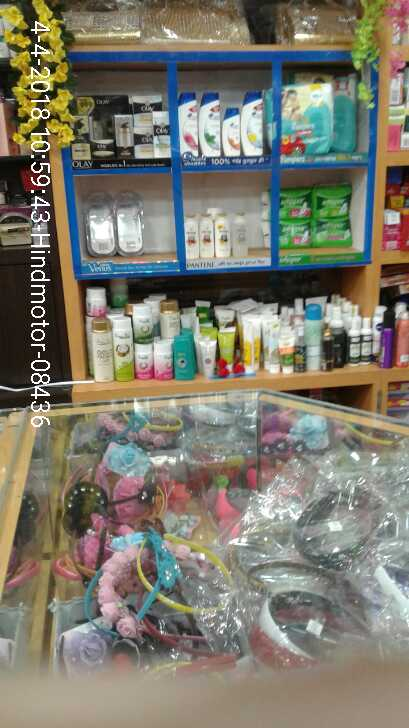venus: (85, 192, 118, 254), (118, 191, 143, 254)
